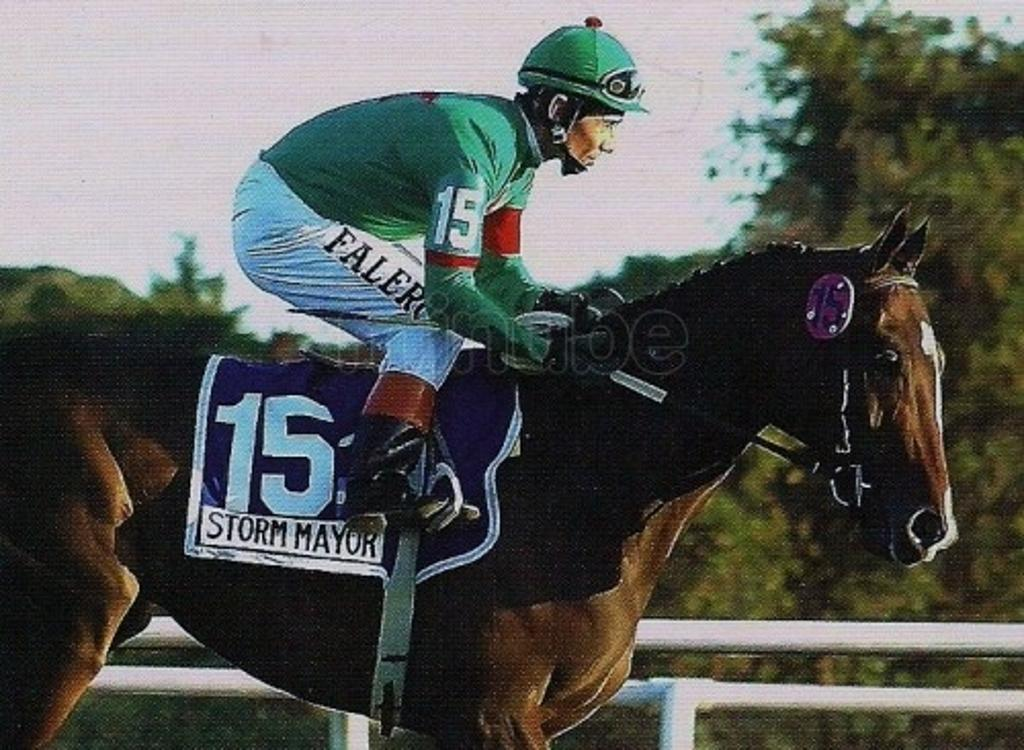face: (563, 79, 631, 171)
